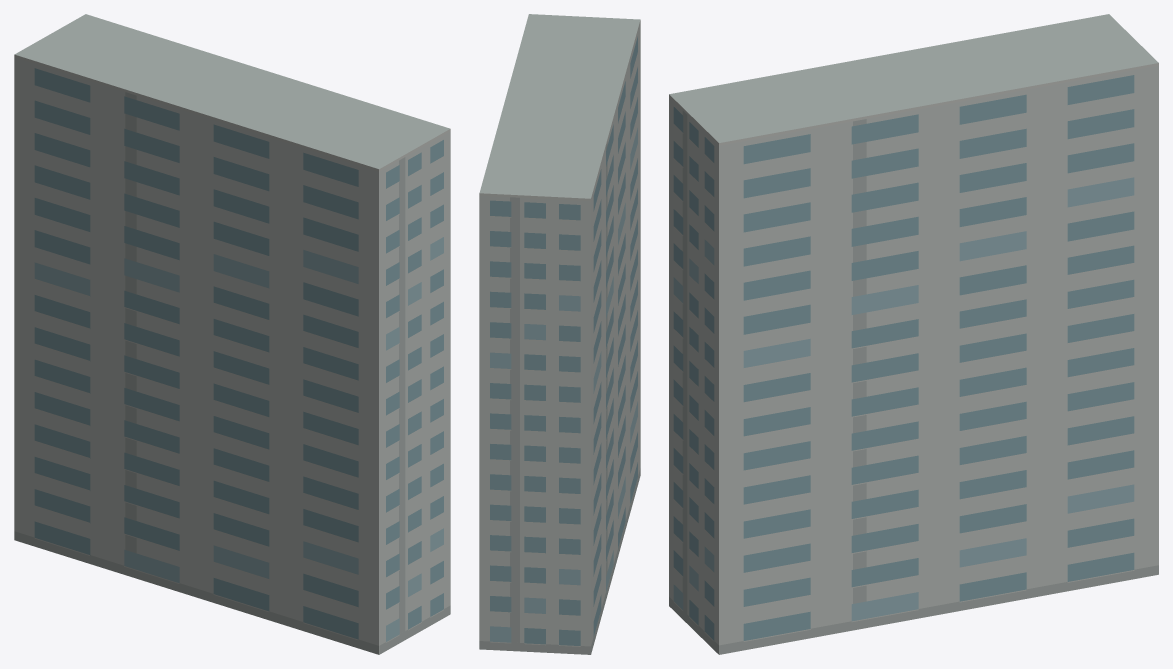
Rendered from residential-b5e03e04-bbfd-41fc-9631-4479a7ee4927.glb.
3 views of the same model, side by side, from view 1: azimuth 30°, elevation 25°; view 2: azimuth 150°, elevation 25°; view 3: azimuth 270°, elevation 25° (orthographic). The views are drawn at different scales.
Parts seen in each view (by area): view 1: residential-b5e03e04-bbfd-41fc-9631-4479a7ee4927.tmp; view 2: residential-b5e03e04-bbfd-41fc-9631-4479a7ee4927.tmp; view 3: residential-b5e03e04-bbfd-41fc-9631-4479a7ee4927.tmp.
Boxes of the visible parts, box(x1,y1,x2,y2) form: residential-b5e03e04-bbfd-41fc-9631-4479a7ee4927.tmp: box(14, 14, 450, 654); residential-b5e03e04-bbfd-41fc-9631-4479a7ee4927.tmp: box(479, 14, 640, 654); residential-b5e03e04-bbfd-41fc-9631-4479a7ee4927.tmp: box(669, 14, 1158, 654).
Bounding box in the file's own units: 24.77 × 45.75 × 39.7.
